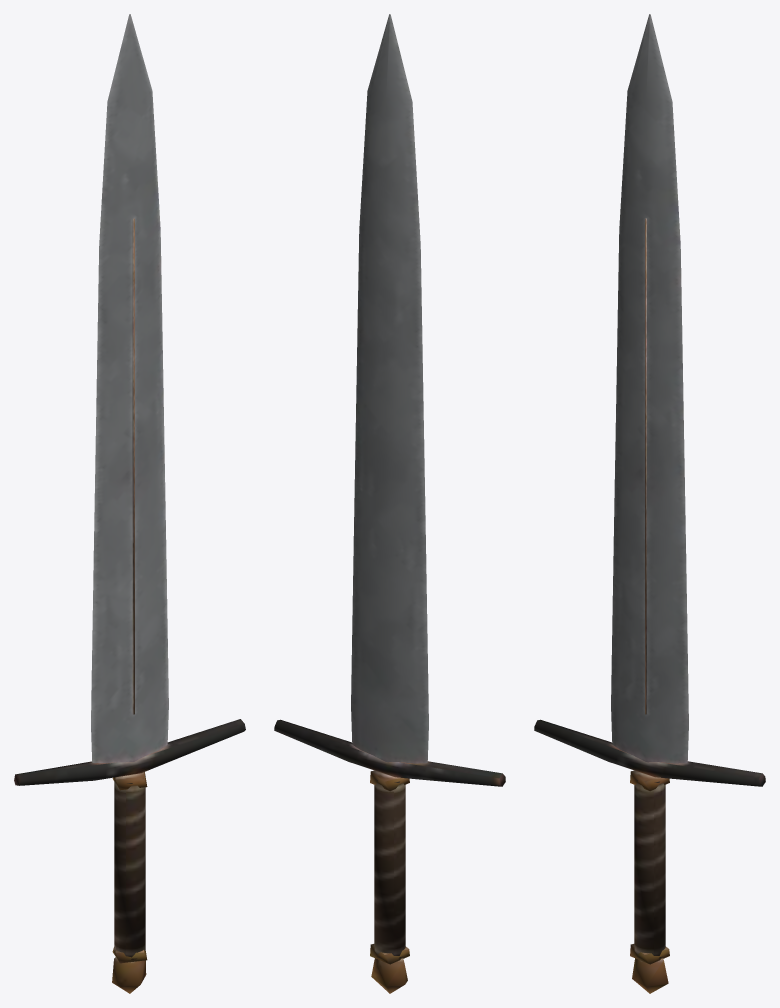
The model's file is eq_greatsword_2_lod2.glb.
3 renders of one model, left to right at view 1: azimuth 30°, elevation 25°; view 2: azimuth 150°, elevation 25°; view 3: azimuth 330°, elevation 25°, orthographic.
Parts seen in each view (by area): view 1: eq_greatsword_2_lod2; view 2: eq_greatsword_2_lod2; view 3: eq_greatsword_2_lod2.
Part boxes in pixels (<box>): eq_greatsword_2_lod2: <box>14,14,245,993</box>; eq_greatsword_2_lod2: <box>274,14,505,993</box>; eq_greatsword_2_lod2: <box>534,14,765,993</box>.
Bounding box in the file's own units: 0.4837 × 2 × 0.0714.
Materials: 1 (1 with a texture image).
